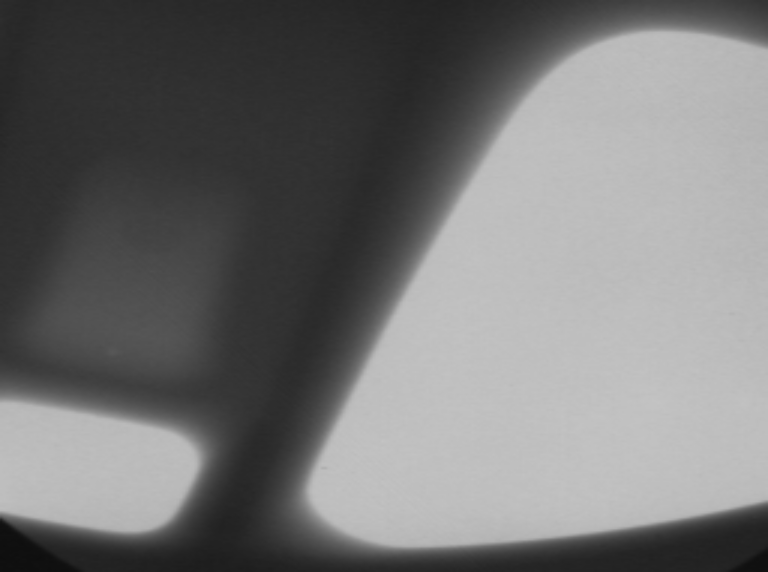defect: (90, 331, 135, 371)
